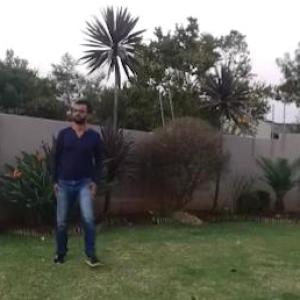follow: (42, 82, 110, 290)
